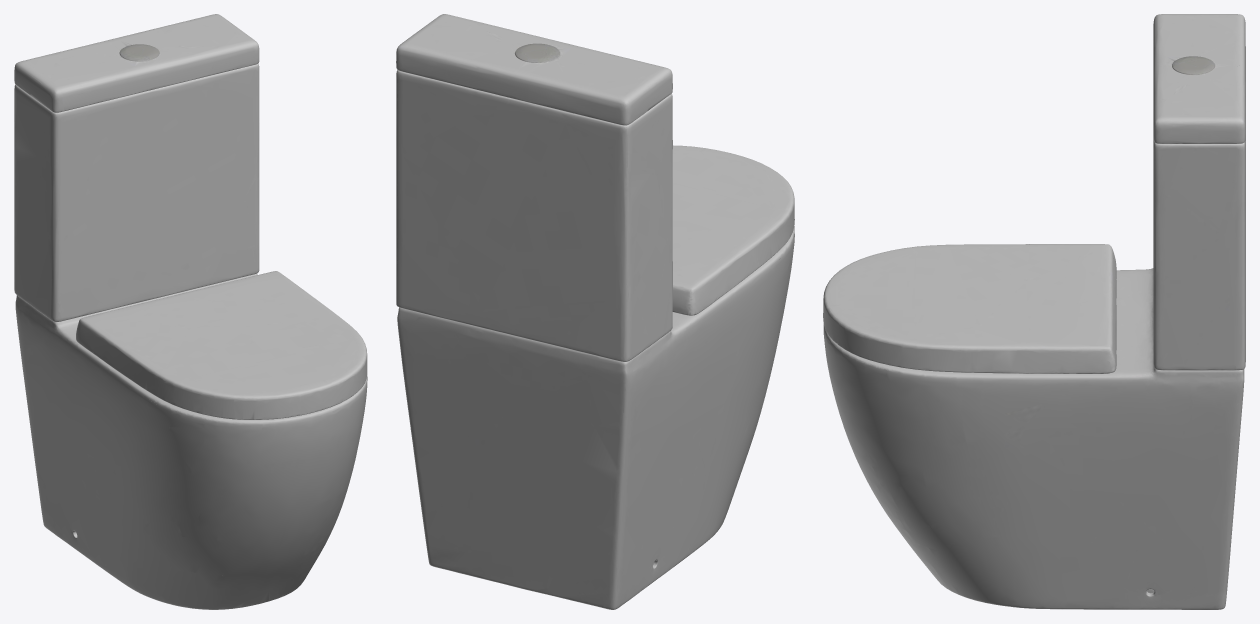
The model's file is toilet-btw.glb.
The picture shows the model from 3 angles, left to right: view 1: azimuth 30°, elevation 25°; view 2: azimuth 150°, elevation 25°; view 3: azimuth 270°, elevation 25°; orthographic projection. The views are drawn at different scales.
Visible parts, largest first — view 1: Mesh_0; view 2: Mesh_0; view 3: Mesh_0.
Boxes of the visible parts, x1=… form: Mesh_0: x1=14, y1=14, x2=367, y2=609; Mesh_0: x1=396, y1=14, x2=794, y2=609; Mesh_0: x1=823, y1=14, x2=1245, y2=609.
Bounding box in the file's own units: 0.8847 × 1.9 × 1.45.
Materials: 1 (1 with a texture image).
